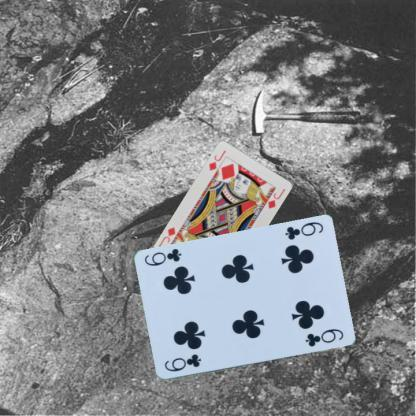6c: (282, 219, 324, 242), (161, 352, 202, 374)
Jd: (206, 148, 227, 172)
